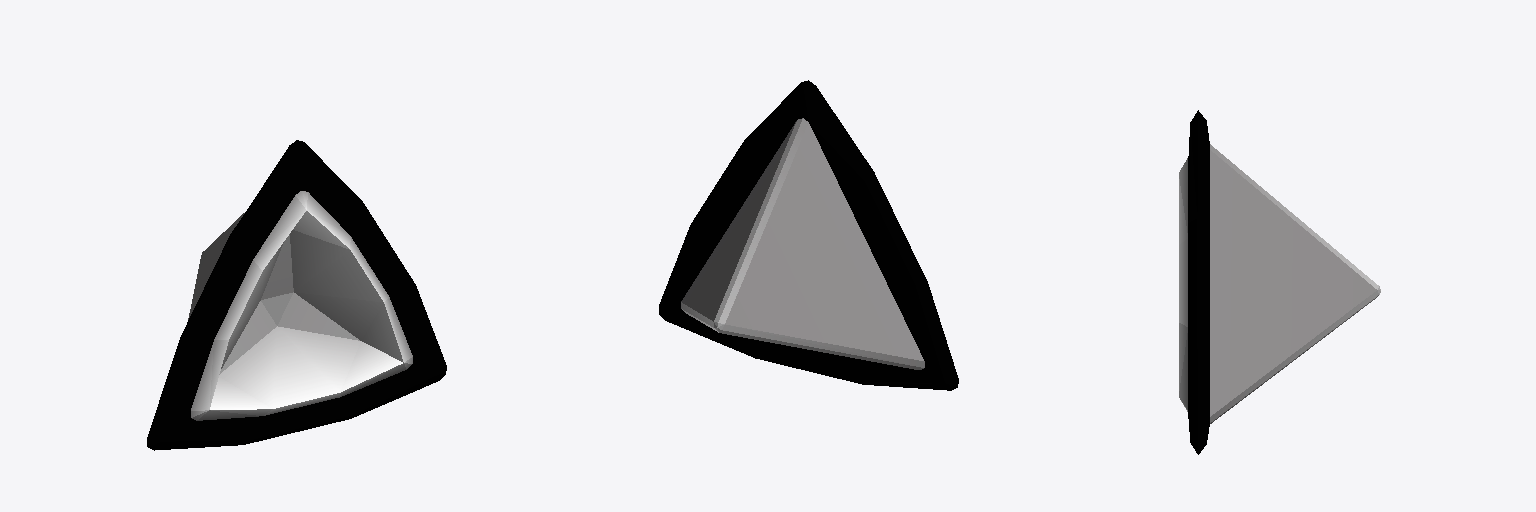
3 renders of one model, left to right at view 1: azimuth 30°, elevation 25°; view 2: azimuth 150°, elevation 25°; view 3: azimuth 270°, elevation 25°, orthographic.
Parts seen in each view (by area): view 1: Dirgem_LOD1_Cylinder.005; view 2: Dirgem_LOD1_Cylinder.005; view 3: Dirgem_LOD1_Cylinder.005.
Boxes of the visible parts, x1,y1,x2,y2 form: Dirgem_LOD1_Cylinder.005: [147, 140, 446, 450]; Dirgem_LOD1_Cylinder.005: [659, 80, 958, 390]; Dirgem_LOD1_Cylinder.005: [1179, 110, 1380, 454].
Bounding box in the file's own units: 0.4233 × 0.3931 × 0.2477.
Materials: 2 (1 with a texture image).